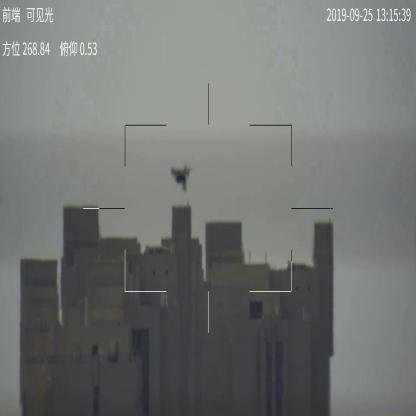uav: (168, 163, 194, 193)
